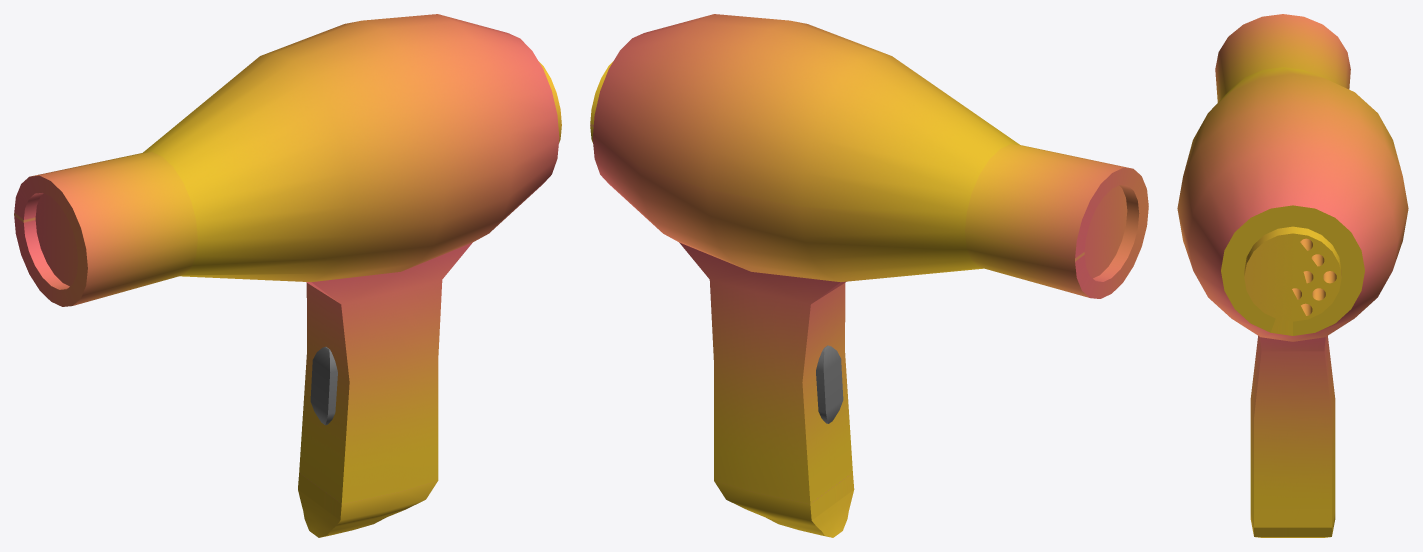
Rendered from hairdryer.fbx.
The picture shows the model from 3 angles, left to right: view 1: azimuth 30°, elevation 25°; view 2: azimuth 150°, elevation 25°; view 3: azimuth 270°, elevation 25°; orthographic projection. The views are drawn at different scales.
Visible parts, largest first — view 1: pCylinder17; view 2: pCylinder17; view 3: pCylinder17.
Part boxes in pixels (x1=…): pCylinder17: x1=14, y1=14, x2=561, y2=537; pCylinder17: x1=590, y1=14, x2=1148, y2=537; pCylinder17: x1=1177, y1=14, x2=1408, y2=537.
Bounding box in the file's own units: 9.96 × 9.5 × 4.44.
3 materials, 1 textured.
